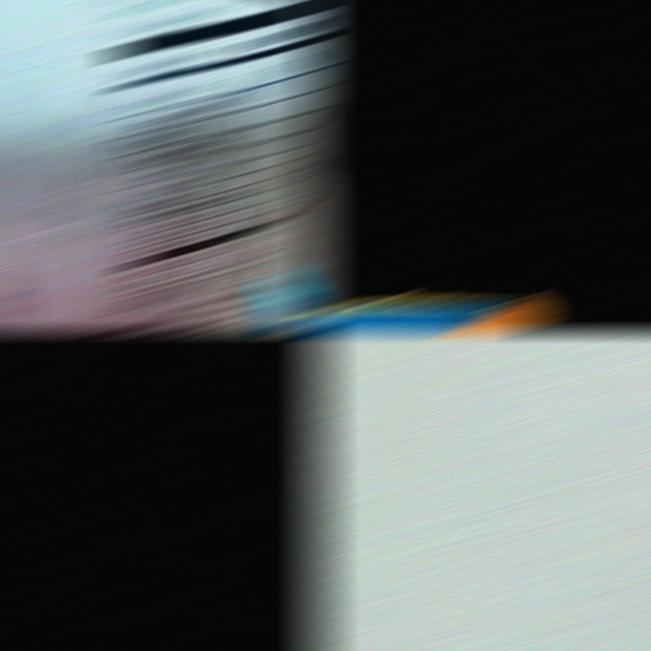loaded: (0, 2, 328, 329)
